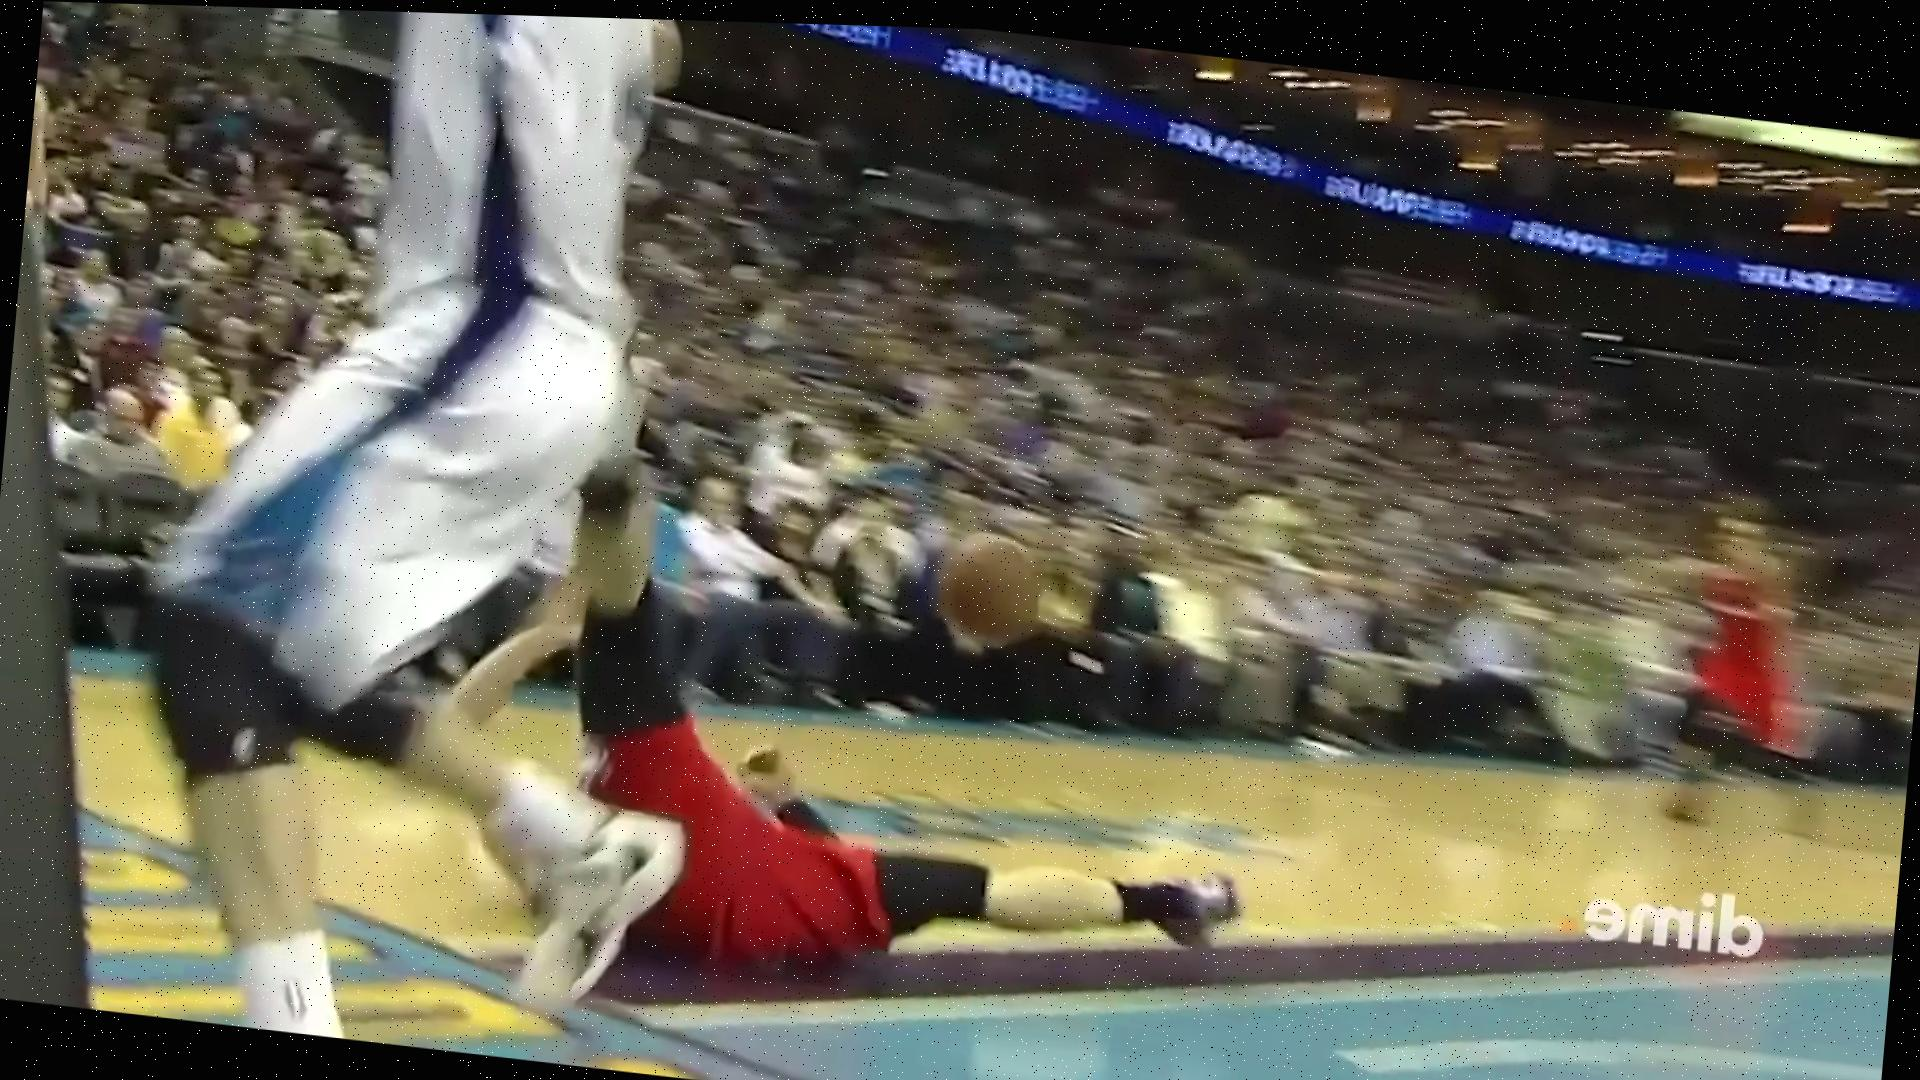foul: (107, 3, 1052, 1080)
